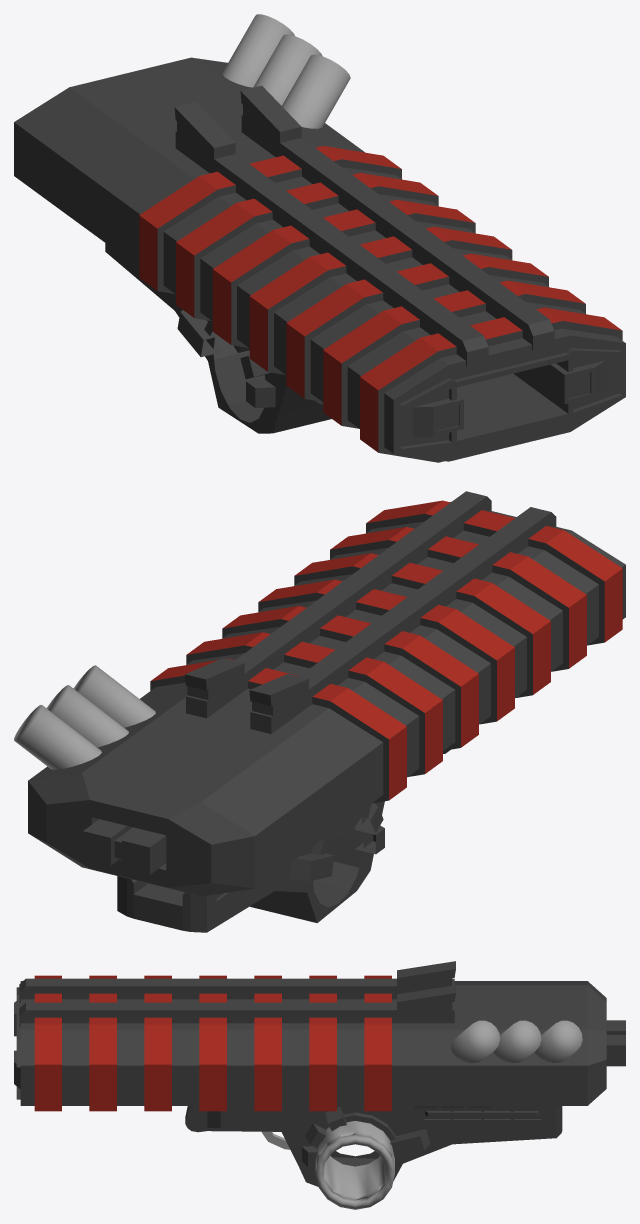
Rendered from canon-vr-turret-top.glb.
3 views of the same model, one above another, from view 1: azimuth 30°, elevation 25°; view 2: azimuth 150°, elevation 25°; view 3: azimuth 270°, elevation 25° (orthographic). The views are drawn at different scales.
Visible parts, largest first — view 1: Cube.001, Cube.000; view 2: Cube.001, Cube.000; view 3: Cube.001, Cube.000.
Boxes of the visible parts, box(x1,y1,x2,y2) form: Cube.001: box(14, 57, 625, 462); Cube.000: box(222, 14, 350, 128); Cube.001: box(28, 491, 625, 932); Cube.000: box(14, 665, 155, 769); Cube.001: box(14, 961, 625, 1186); Cube.000: box(262, 1020, 582, 1209).
Size of the model in its own units: 1.67 by 1.6 by 4.45.
